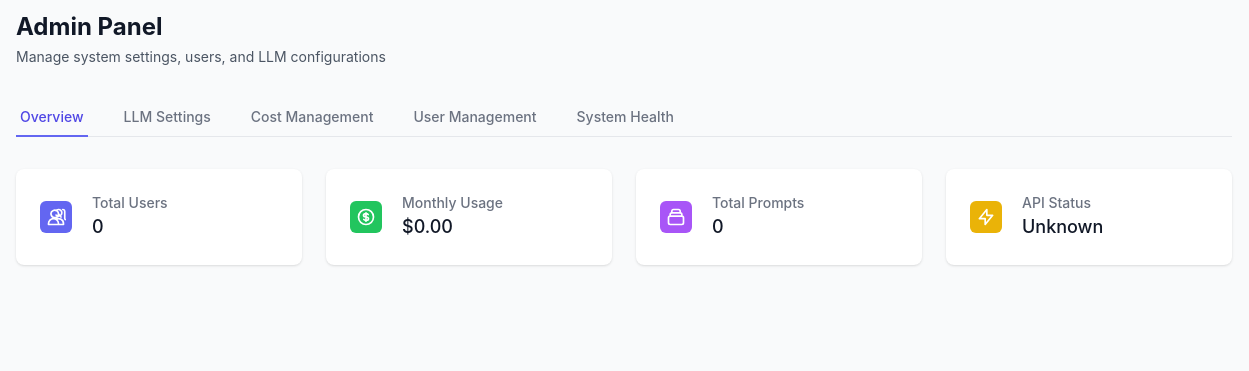
it: AdminPanel › should handle system tab
Click the button "System Health". click: (625, 118)
box: [572,99,678,137]
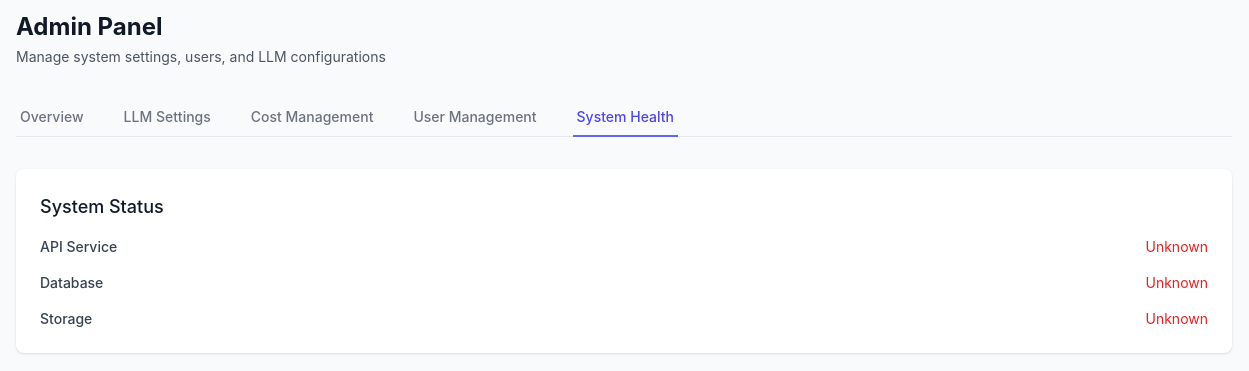
Expected: the heading "System Status" is shown, [40,196,164,217]
